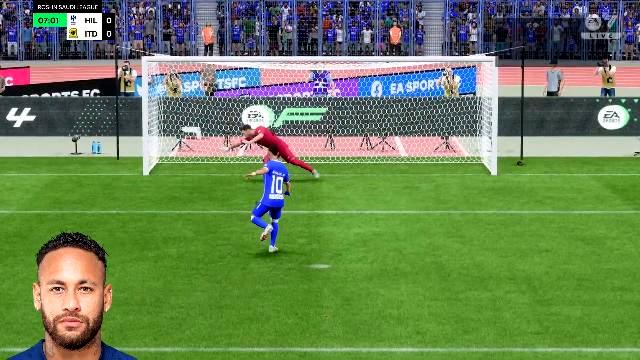bottom-left: (150, 132, 264, 180)
bottom-right: (376, 130, 484, 178)
center-down: (266, 130, 372, 178)
center-up: (265, 66, 373, 128)
football: (148, 76, 154, 86)
goalkeeper: (222, 124, 322, 178)
player: (230, 150, 322, 252)
top-left: (148, 67, 264, 129)
top-right: (374, 67, 486, 128)
